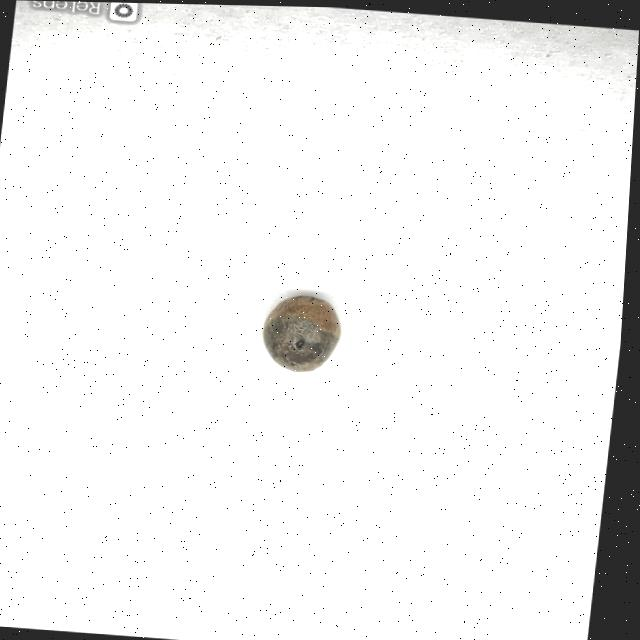Insect damage: (263, 291, 350, 375)
